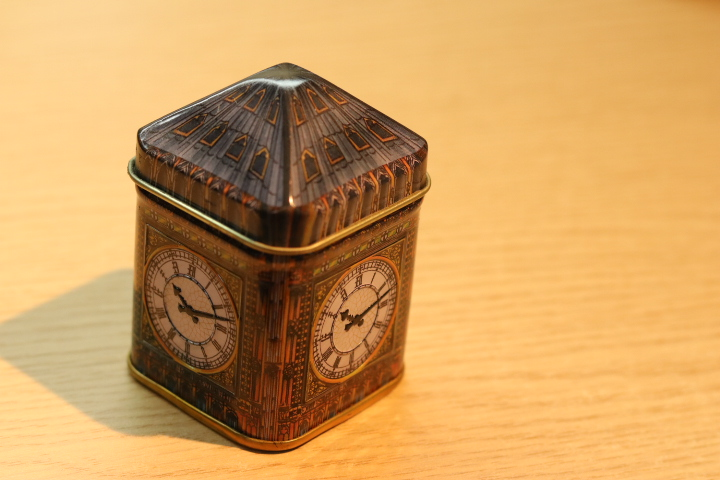Big Ben: (123, 47, 442, 460)
